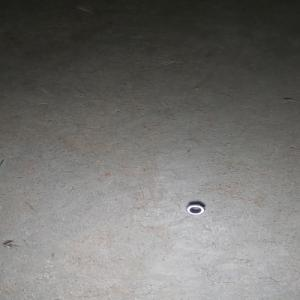Nut: (185, 203, 205, 215)
